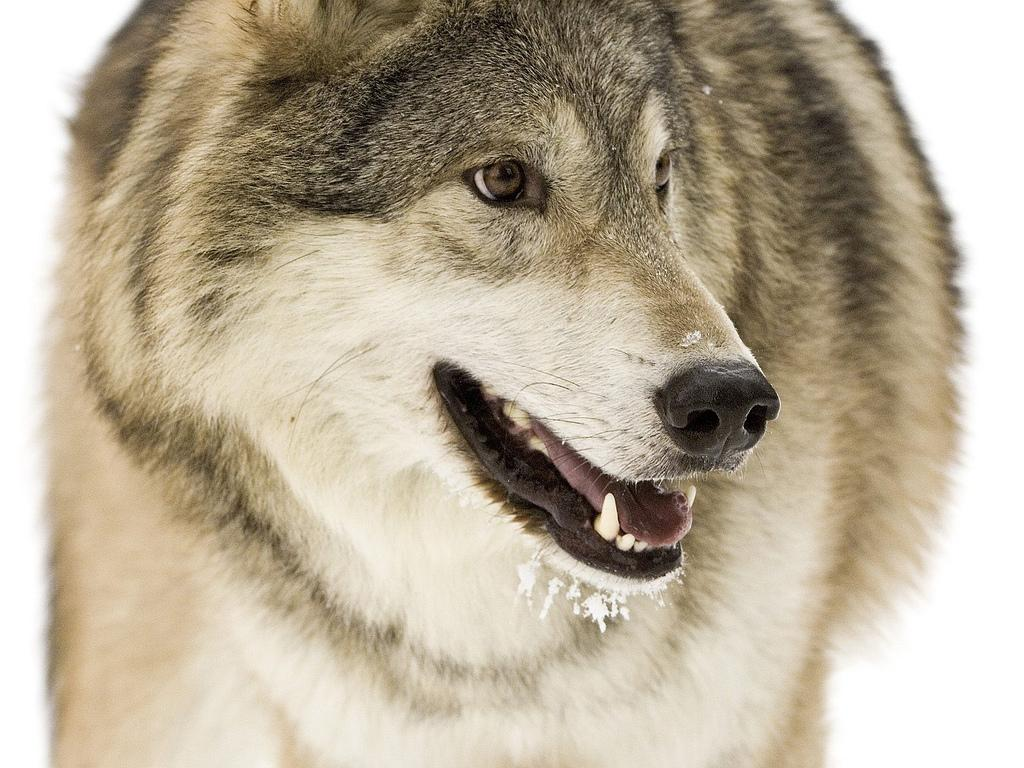Wolf: (38, 3, 977, 768)
